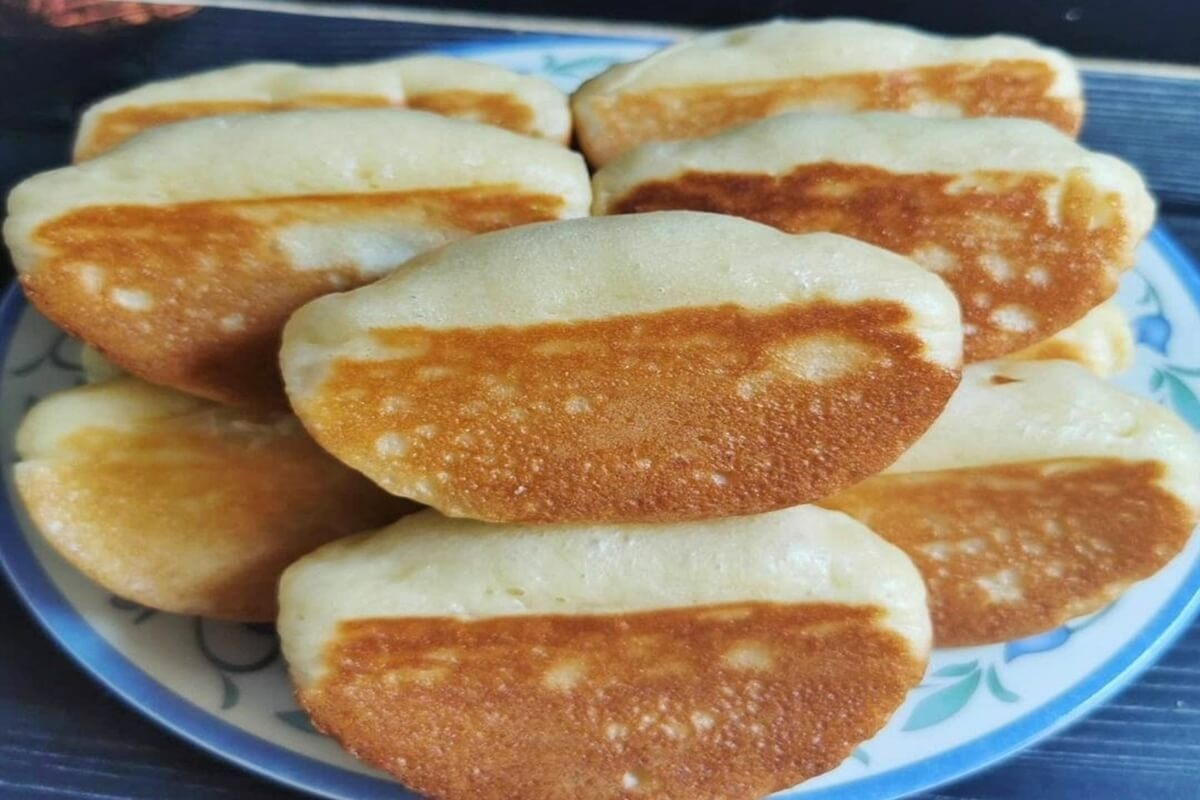pukis: (232, 174, 1011, 540), (162, 504, 980, 800)
